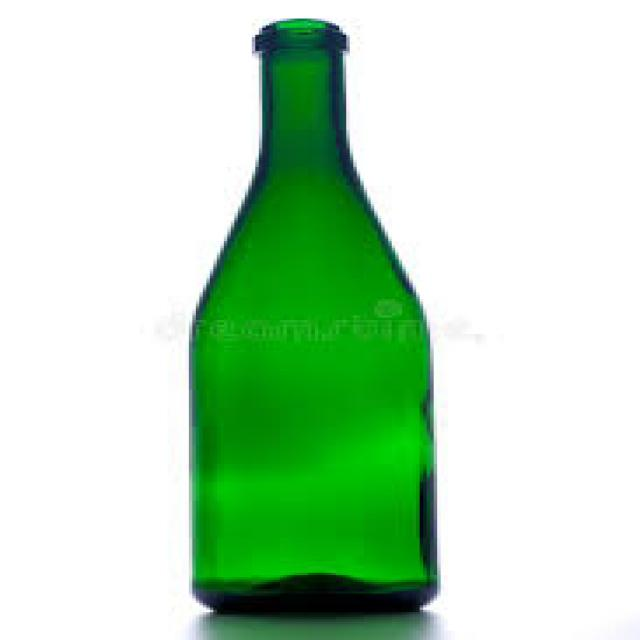Glass: (177, 17, 443, 621)
